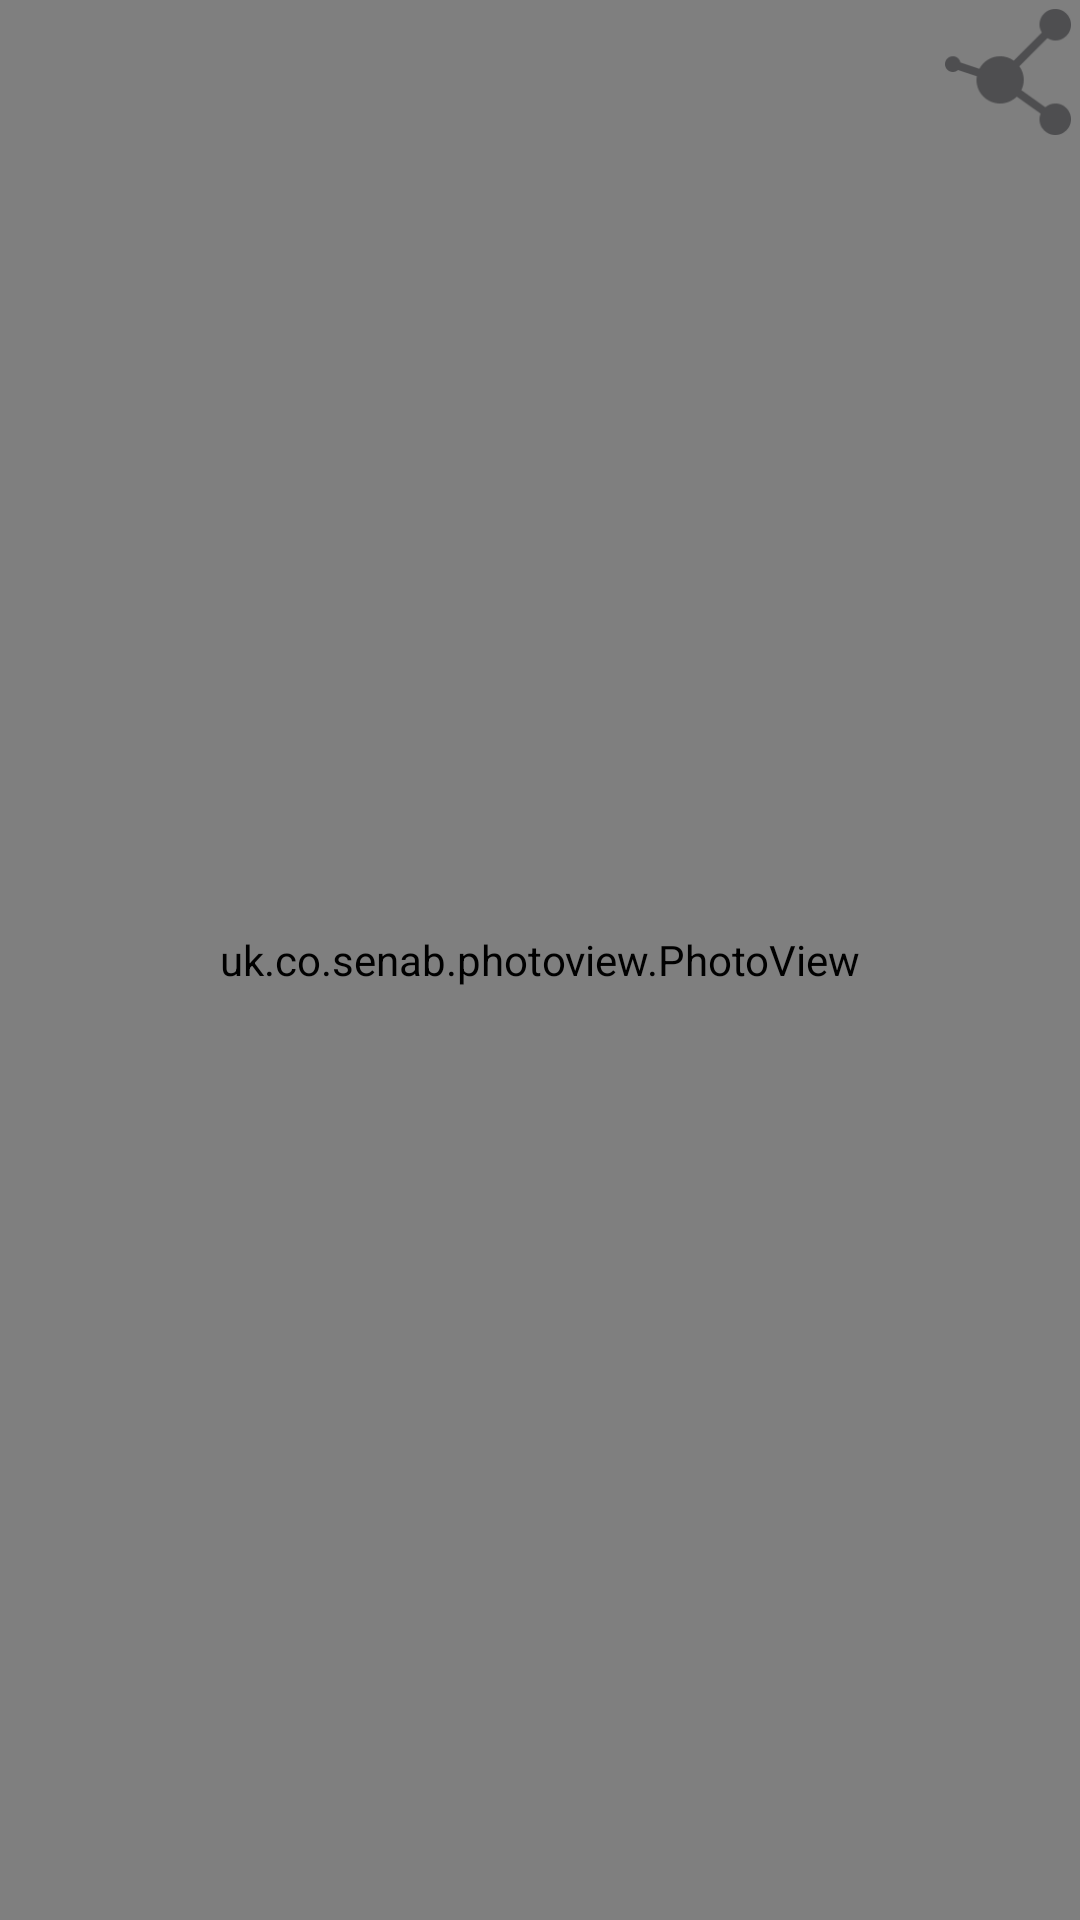

Named icons in this screenshot (1080*1920) and their centers, (x,y):
share: (1008,72)
